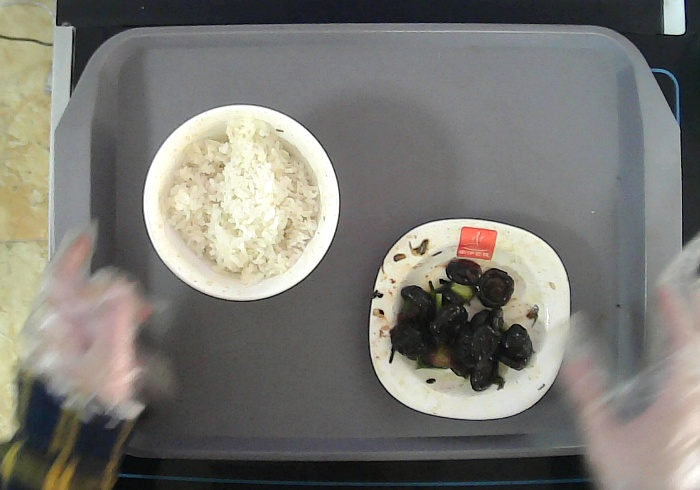SHKJ-Bai_Se_Si_Fang_Cai_Die: (367, 215, 574, 422)
SHKJ-Fan_Wan: (140, 102, 343, 304)
